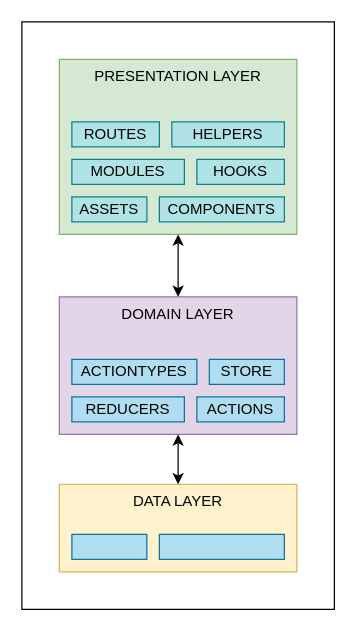
The diagram is 356 pixels wide and 631 high, and some of its shapes have lost their labels. The shapes that lost their labels are listed below. From the top down, each one's centre as x and y in pixels, then its label:
At point 109,546: "API".
At point 221,546: "STORAGE".
